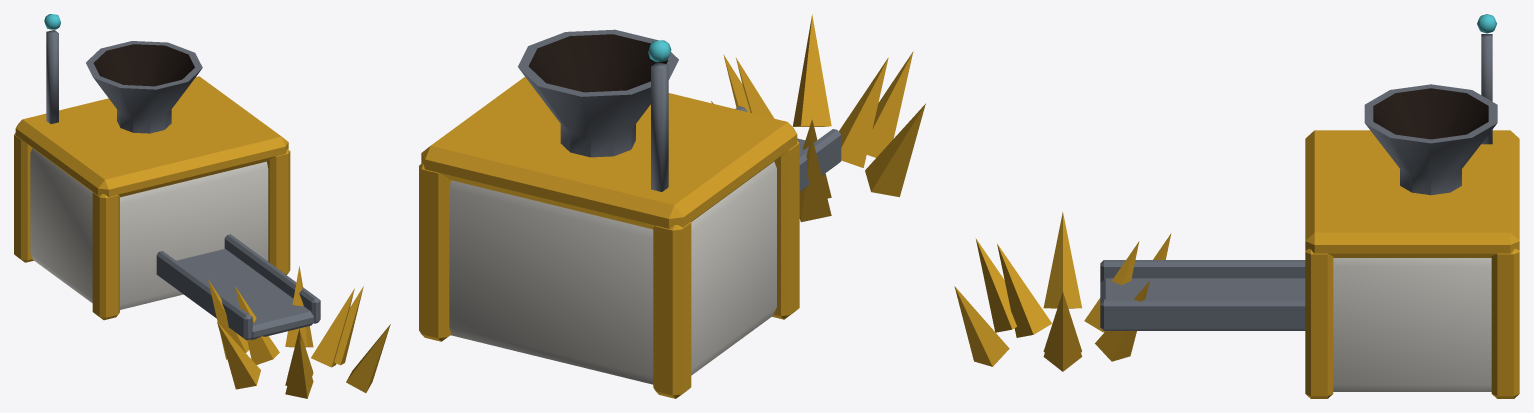
The picture shows the model from 3 angles, left to right: view 1: azimuth 30°, elevation 25°; view 2: azimuth 150°, elevation 25°; view 3: azimuth 270°, elevation 25°; orthographic projection. The views are drawn at different scales.
Parts seen in each view (by area): view 1: espinhos_0_base, espinhos_1_torreta; view 2: espinhos_0_base, espinhos_1_torreta; view 3: espinhos_0_base, espinhos_1_torreta.
Part boxes in pixels (x1,y1,x2,y2): espinhos_0_base: [14, 14, 390, 398]; espinhos_1_torreta: [156, 234, 320, 340]; espinhos_0_base: [419, 14, 925, 398]; espinhos_1_torreta: [735, 106, 841, 191]; espinhos_0_base: [954, 14, 1519, 398]; espinhos_1_torreta: [1100, 260, 1305, 330].
Bounding box in the file's own units: 0.56 × 0.6918 × 1.21.
